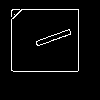I: (25, 25, 73, 54)
